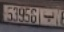3: (13, 6, 19, 21)
5: (6, 6, 13, 21), (24, 8, 31, 22)
6: (30, 8, 37, 23)
9: (19, 7, 25, 22)
b: (42, 11, 56, 22)
